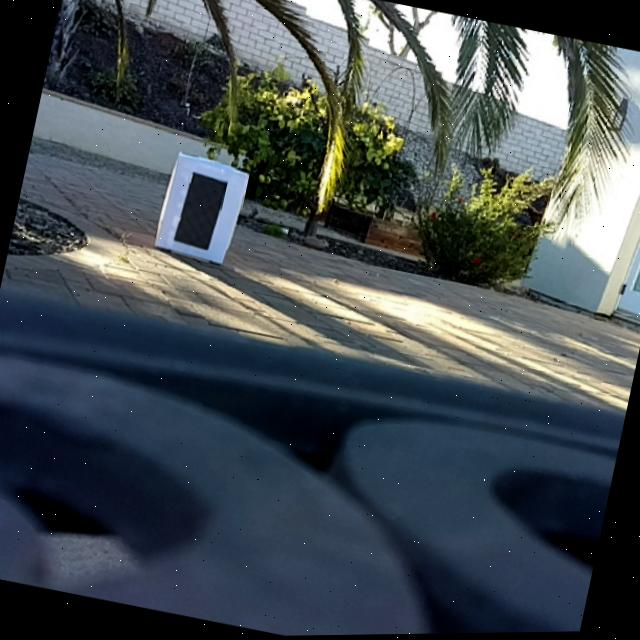led: (173, 172, 229, 252)
